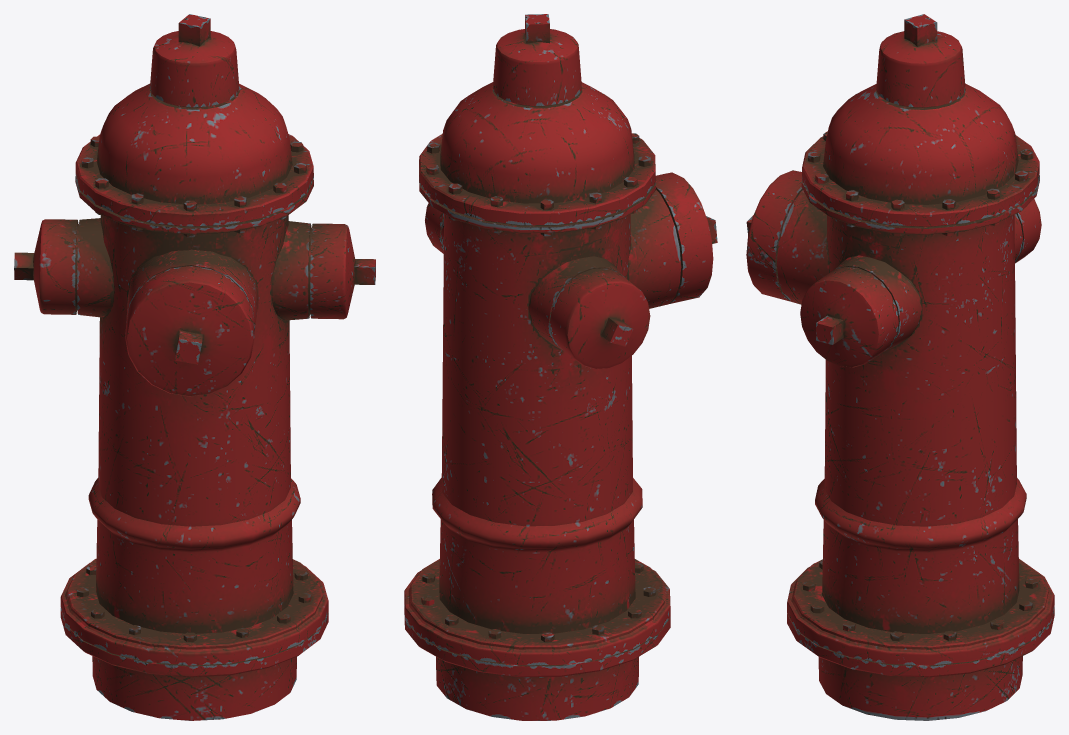
File: water_box0.glb
3 renders of one model, left to right at view 1: azimuth 30°, elevation 25°; view 2: azimuth 150°, elevation 25°; view 3: azimuth 270°, elevation 25°, orthographic.
Visible parts, largest first — view 1: FireHydrant_FireHydrant_shader_0; view 2: FireHydrant_FireHydrant_shader_0; view 3: FireHydrant_FireHydrant_shader_0.
Boxes of the visible parts, <box> form: FireHydrant_FireHydrant_shader_0: <box>14,14,375,720</box>; FireHydrant_FireHydrant_shader_0: <box>404,14,717,720</box>; FireHydrant_FireHydrant_shader_0: <box>746,14,1054,720</box>.
Bounding box in the file's own units: 0.4935 × 1.13 × 0.4787.
1 material, 1 textured.
